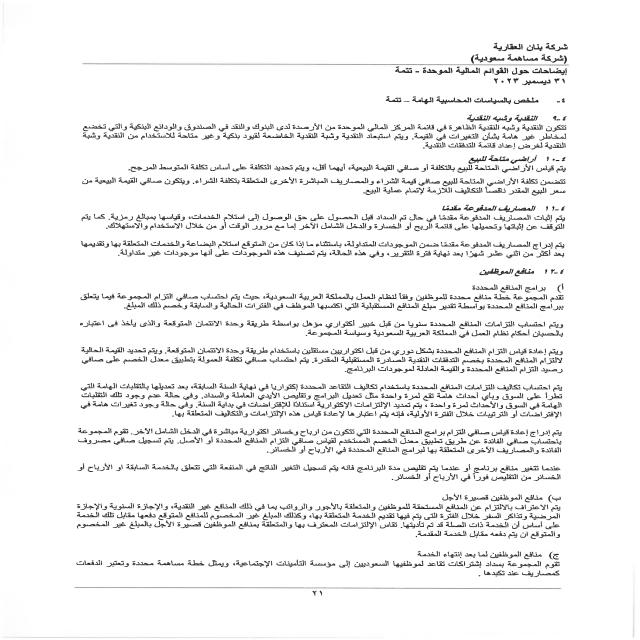notes: (391, 66, 573, 76)
text: (43, 98, 579, 580)
